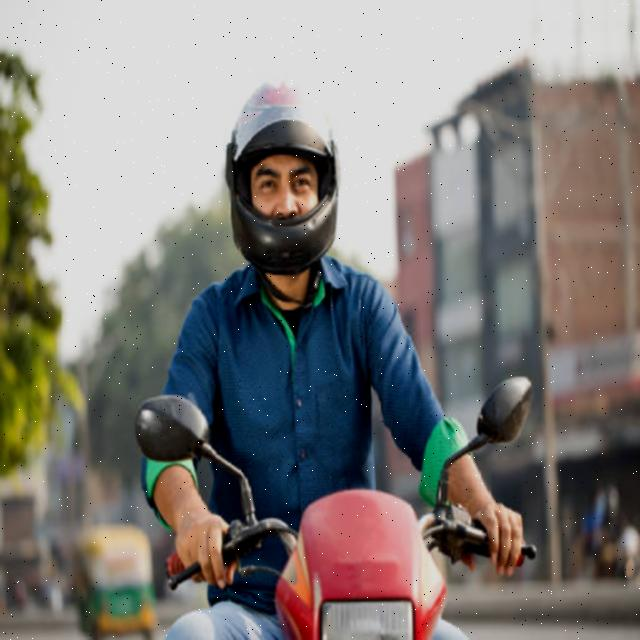not_triplets: (127, 76, 523, 640)
with-helmet: (226, 79, 342, 268)
